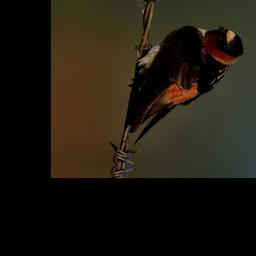Swallow: (118, 19, 249, 155)
